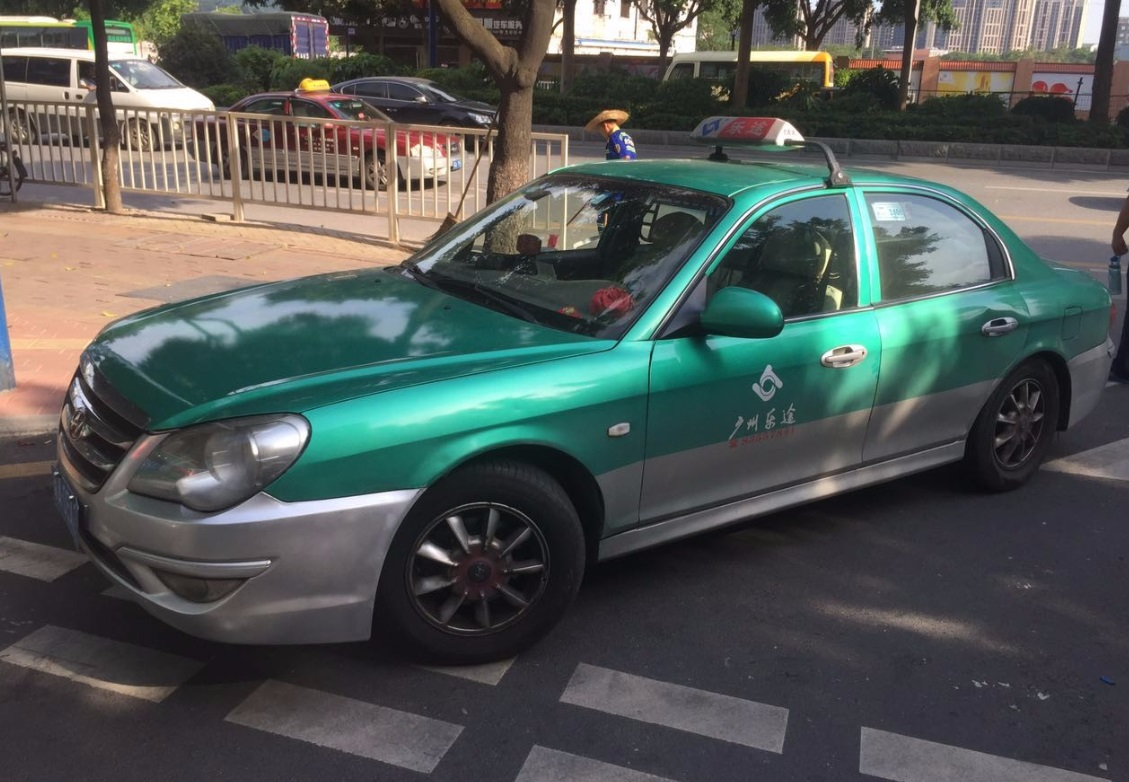taxi: (59, 111, 1116, 676)
